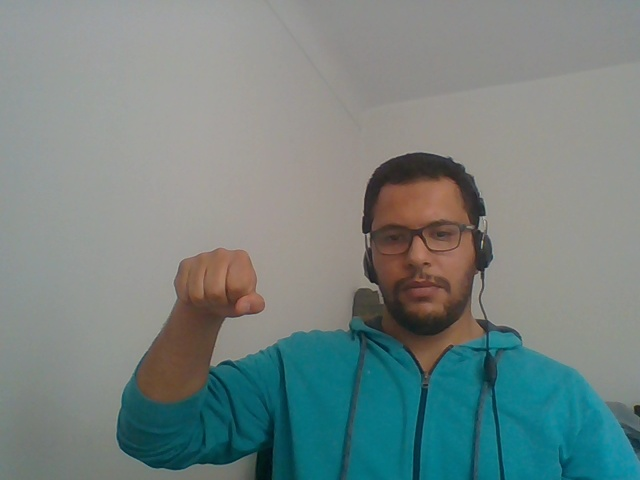yes: (146, 216, 286, 341)
